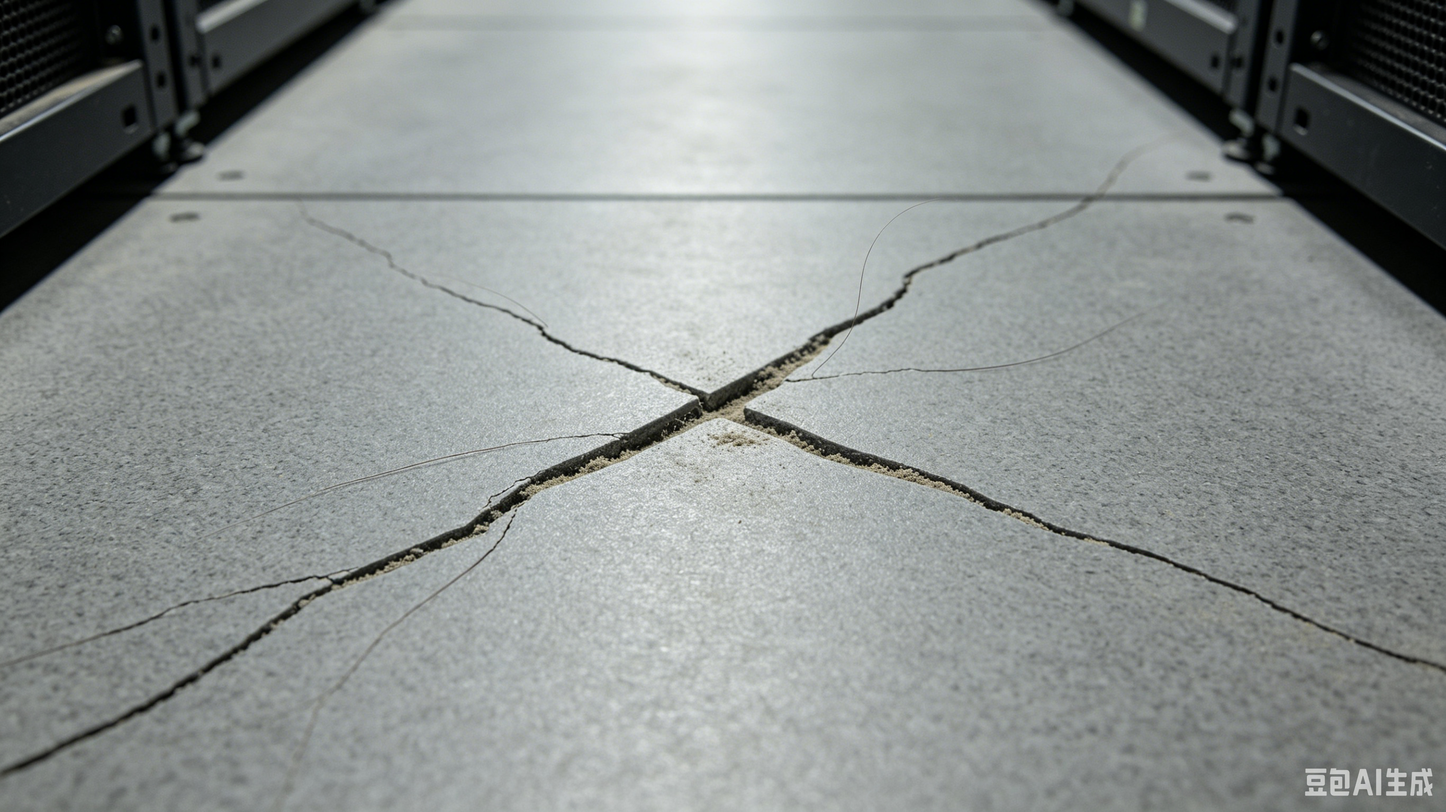floor_defect: (443, 285, 1013, 522), (1022, 490, 1434, 665), (165, 563, 443, 677), (10, 653, 194, 769), (900, 190, 1116, 284), (294, 187, 441, 291), (325, 508, 513, 580)
